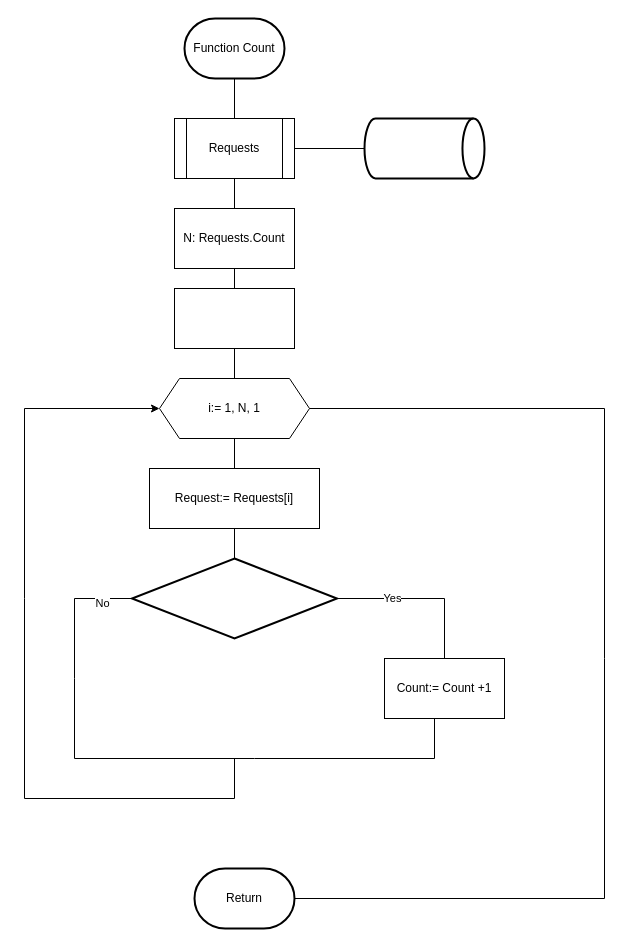
The diagram is 623 pixels wide and 946 high, and some of its shapes have lost their labels. Each missing label, with the centre of its shape:
Count: =0: (234,318)
DB Request: (424,148)
Request.Status = "done": (234,598)
